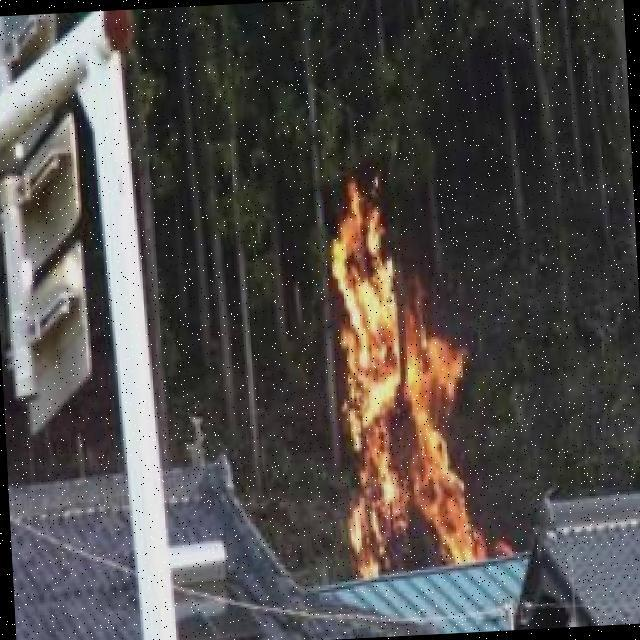Fire: (315, 191, 469, 584)
